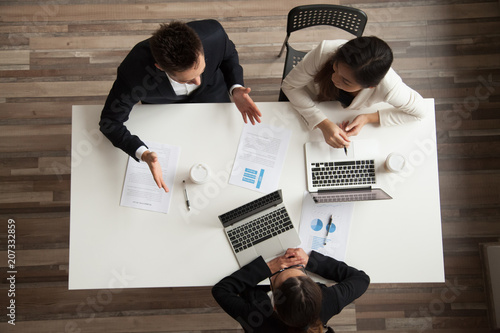person: (99, 18, 262, 194), (282, 35, 428, 149), (210, 247, 372, 333)
